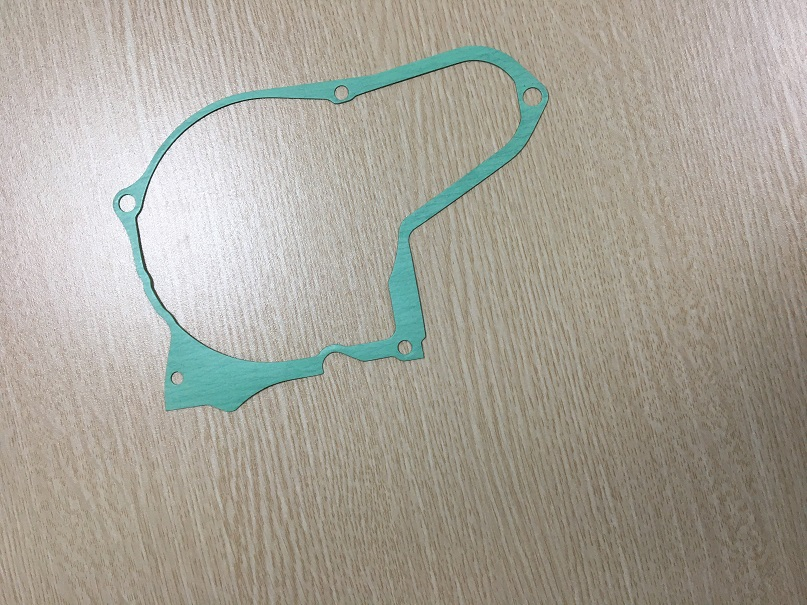type1: (107, 37, 557, 419)
